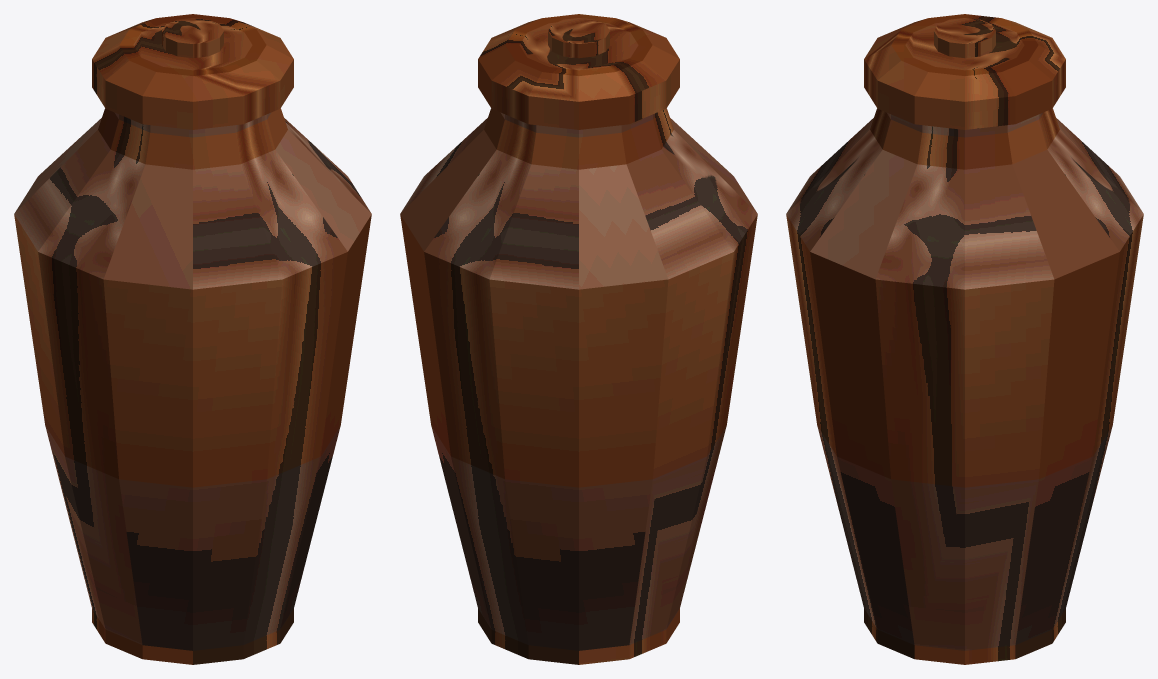
File: w9_cand_vase_jarlanperez.glb
3 renders of one model, left to right at view 1: azimuth 30°, elevation 25°; view 2: azimuth 150°, elevation 25°; view 3: azimuth 270°, elevation 25°, orthographic.
Parts seen in each view (by area): view 1: Node; view 2: Node; view 3: Node.
Boxes of the visible parts, left/top/right/bottom form: Node: left=14, top=14, right=371, bottom=664; Node: left=400, top=14, right=757, bottom=664; Node: left=786, top=14, right=1143, bottom=664.
Size of the model in its own units: 0.2303 by 0.42 by 0.2303.
3 materials, 3 textured.
